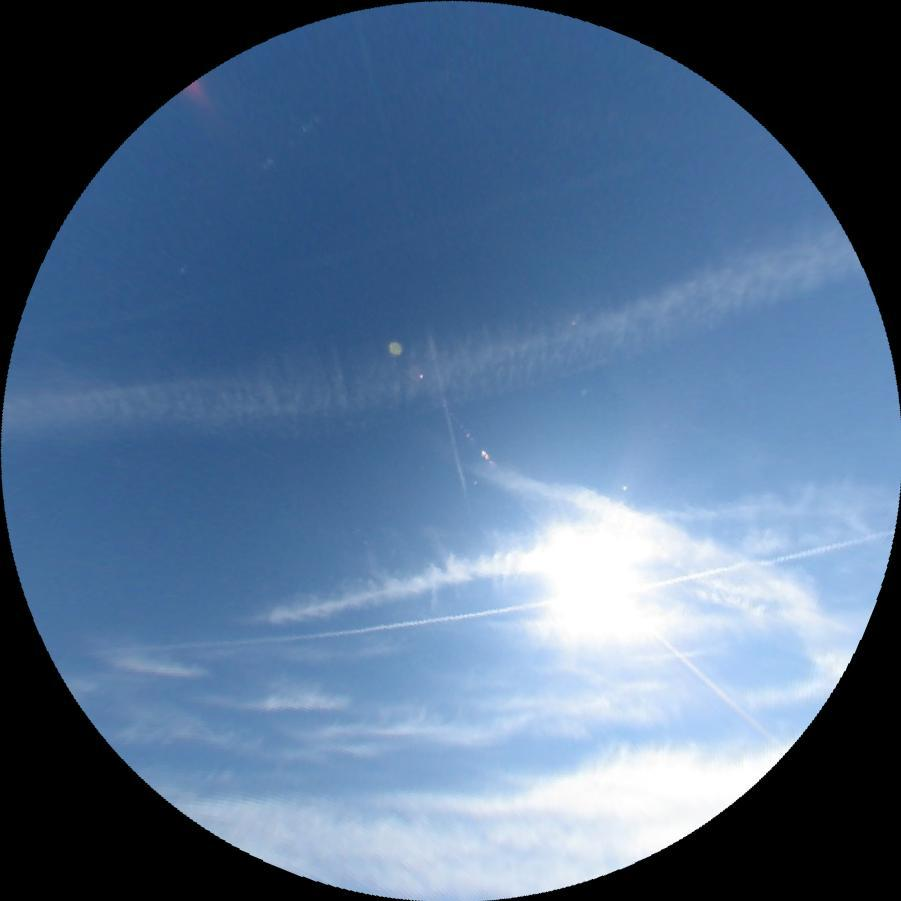contrail old: (65, 528, 897, 678), (15, 157, 644, 345), (426, 333, 472, 514)
contrail veryold: (0, 198, 872, 512), (216, 473, 874, 643), (465, 424, 865, 677)
parasite: (170, 65, 376, 270), (643, 623, 789, 753)
sun: (544, 528, 668, 636)
